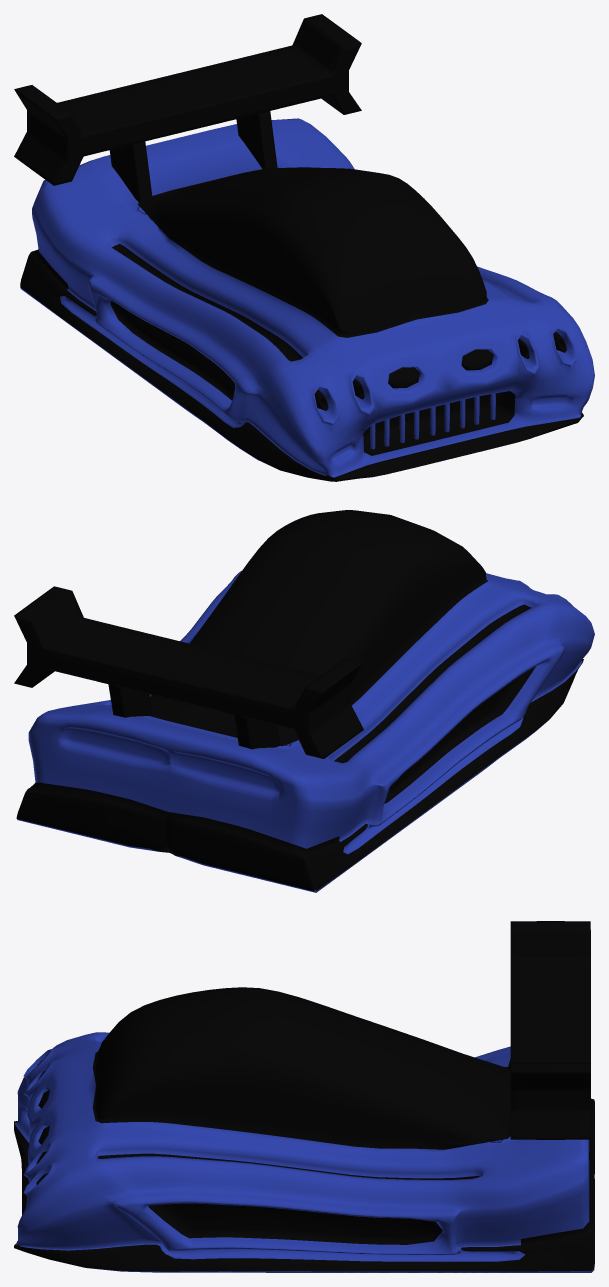
The model's file is Car_Interceptor.fbx.
The picture shows the model from 3 angles, top to bottom: view 1: azimuth 30°, elevation 25°; view 2: azimuth 150°, elevation 25°; view 3: azimuth 270°, elevation 25°; orthographic projection.
Parts seen in each view (by area): view 1: Interceptor; view 2: Interceptor; view 3: Interceptor.
Boxes of the visible parts, bbox=[...] form: Interceptor: bbox=[14, 14, 594, 481]; Interceptor: bbox=[14, 510, 594, 892]; Interceptor: bbox=[14, 921, 594, 1272].
Bounding box in the file's own units: 180 × 109 × 282.
